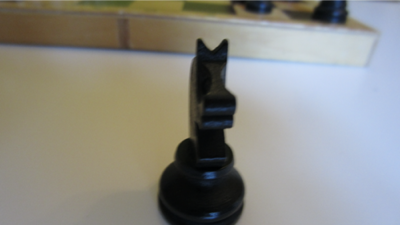black-knight: (155, 36, 247, 225)
